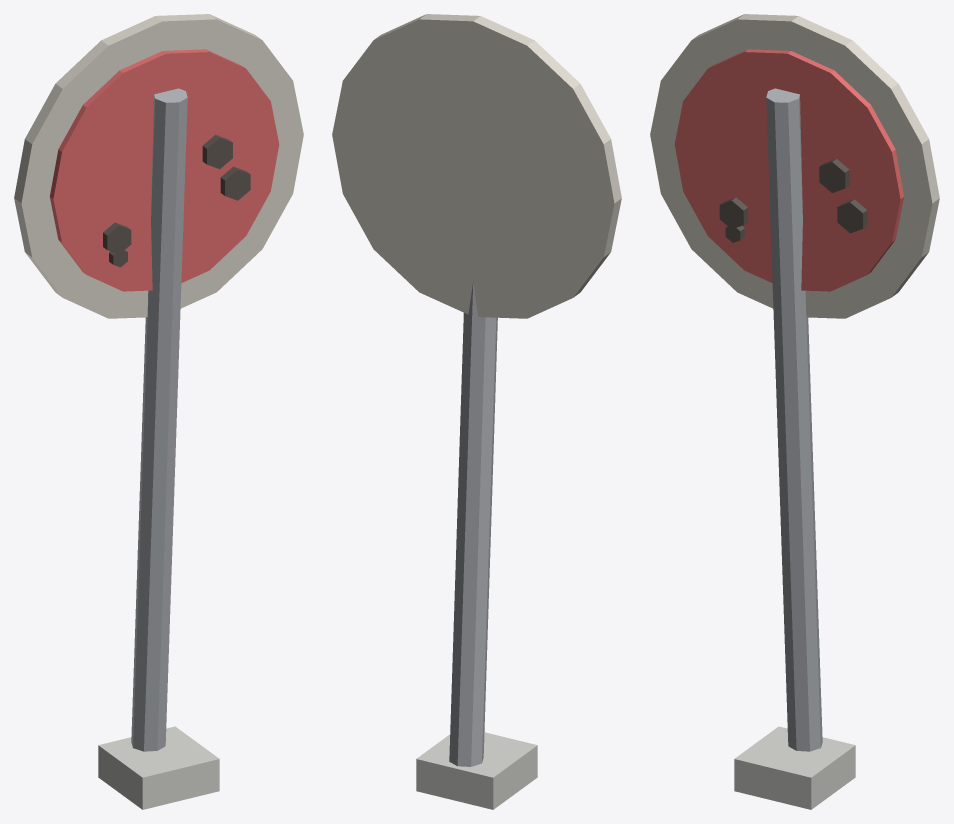
The model's file is road_sign.glb.
3 renders of one model, left to right at view 1: azimuth 30°, elevation 25°; view 2: azimuth 150°, elevation 25°; view 3: azimuth 330°, elevation 25°, orthographic.
Parts seen in each view (by area): view 1: road_sign; view 2: road_sign; view 3: road_sign.
Part boxes in pixels (x1,y1,x2,y2): road_sign: [14, 14, 303, 809]; road_sign: [332, 14, 621, 809]; road_sign: [650, 14, 939, 809].
Bounding box in the file's own units: 1.1 × 2.85 × 0.3.
